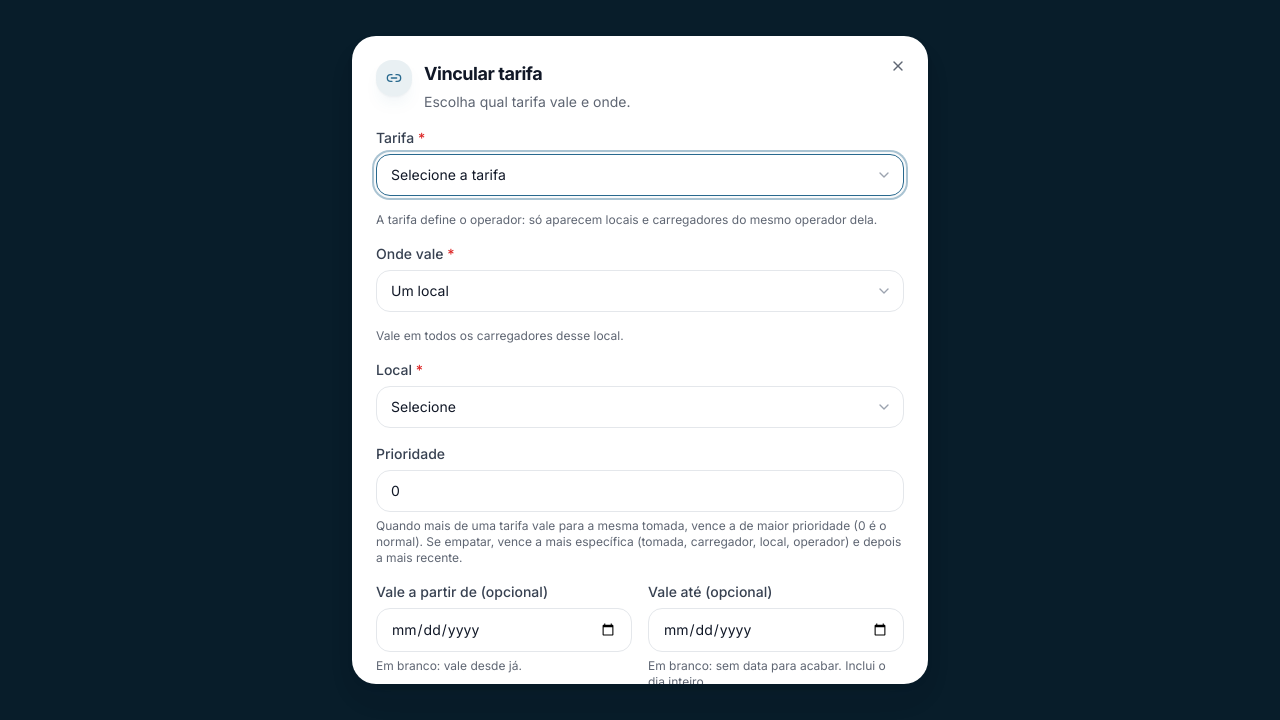
Test case: TariffAssignmentFormDialog — multi-tenant › ADMIN trocando para a tarifa de OUTRO operador descarta o alvo já escolhido (não envia local de A com tarifa de B)
The image size is (1280, 720).
Select "Tarifa A — R$ 2,00/kWh" in the dropdown labelled "Tarifa *" at (640, 175), box [376,154,904,196]
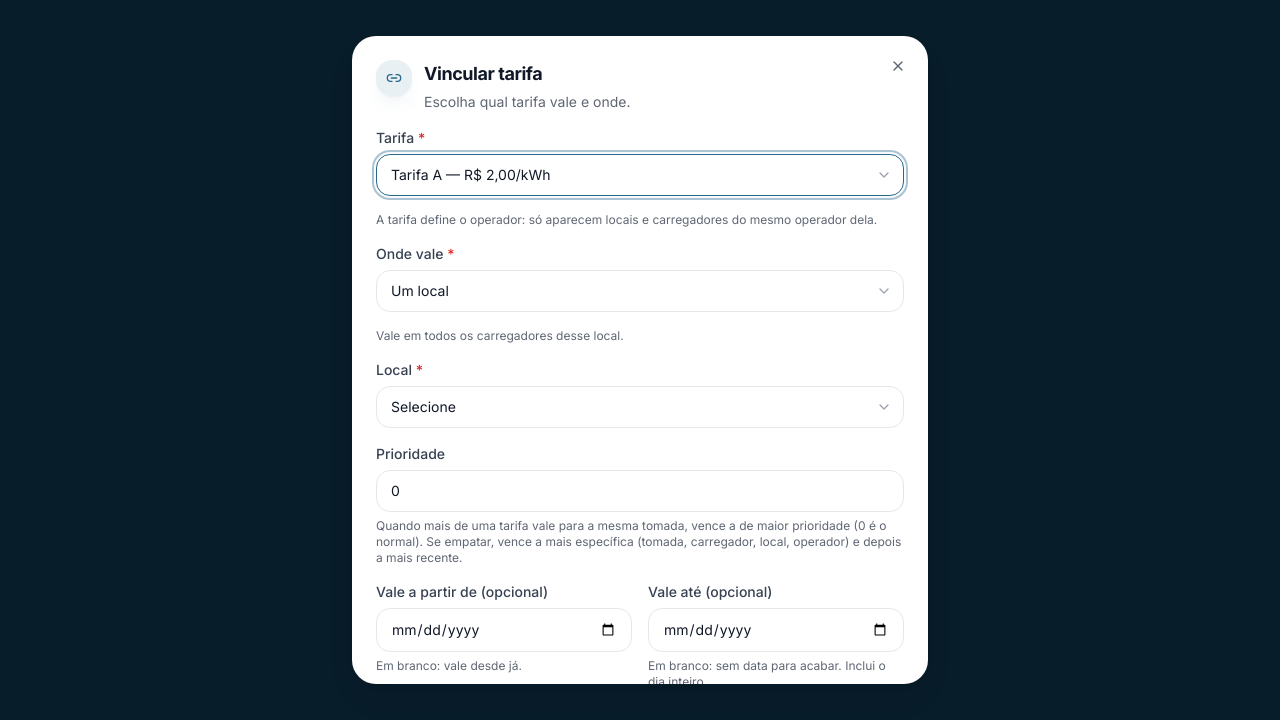
Select "Local A (SP/SP)" in the dropdown labelled "Local *" at (640, 407), box [376,386,904,428]
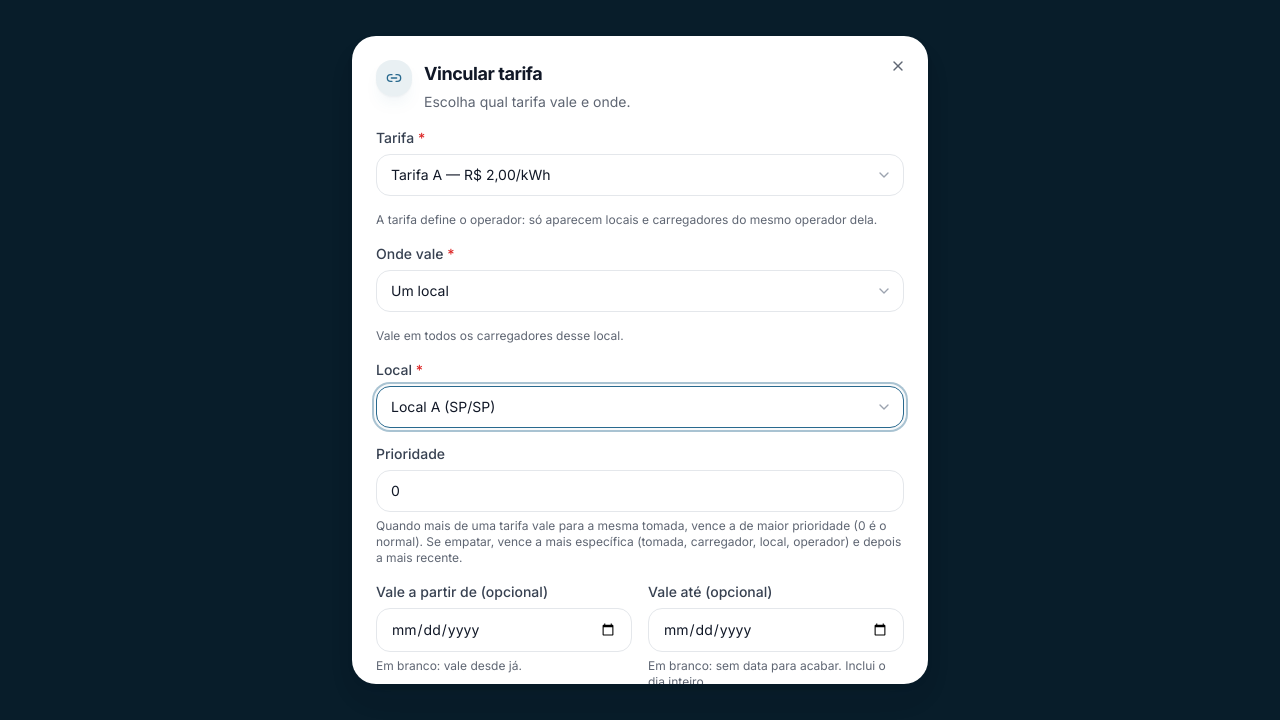
Select "Tarifa B — R$ 2,00/kWh" in the dropdown labelled "Tarifa *" at (640, 175), box [376,154,904,196]
(page scrolled)
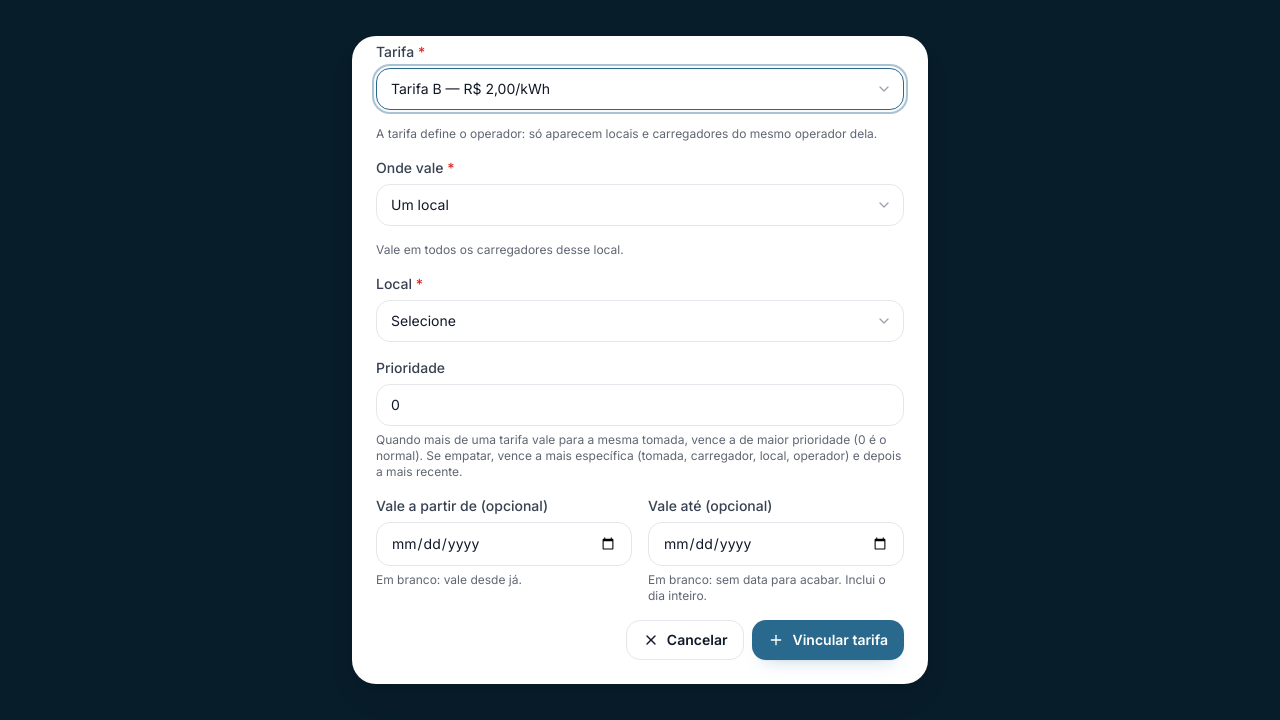
Click the button "Vincular tarifa" at (828, 640), box [752,620,904,660]
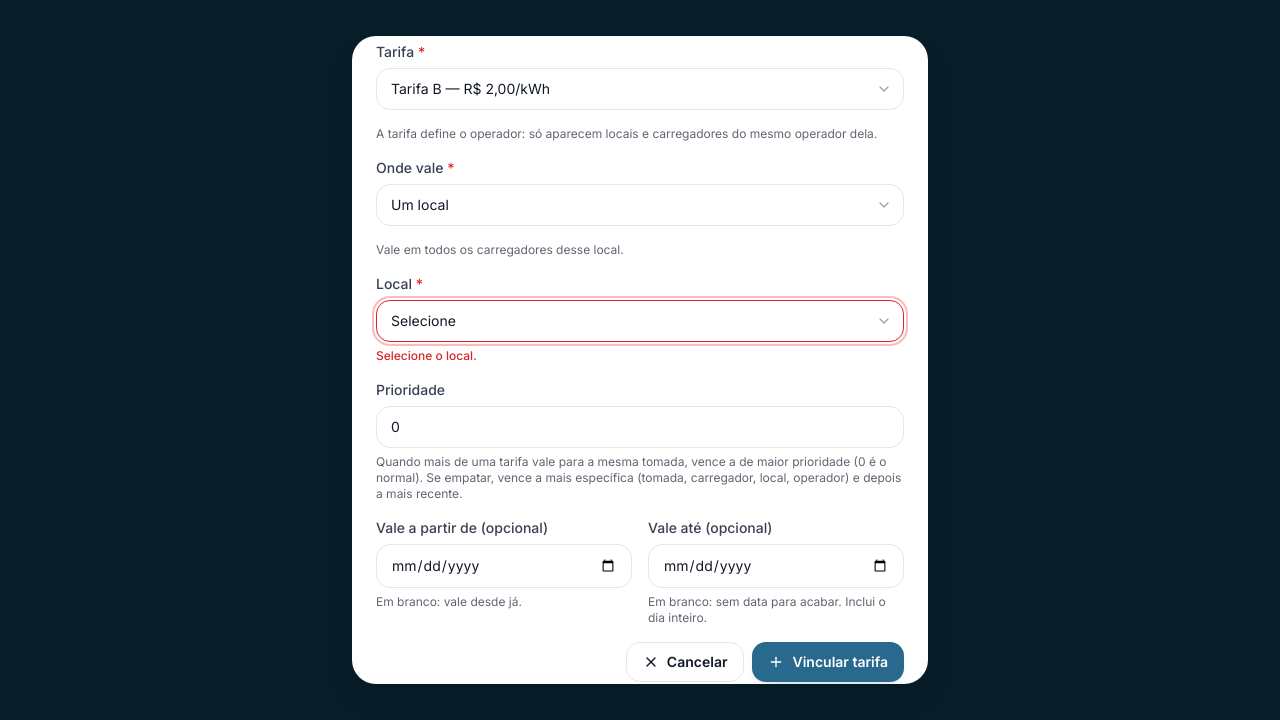
expect the text "Selecione o local." is shown: met, box [376,348,477,363]
